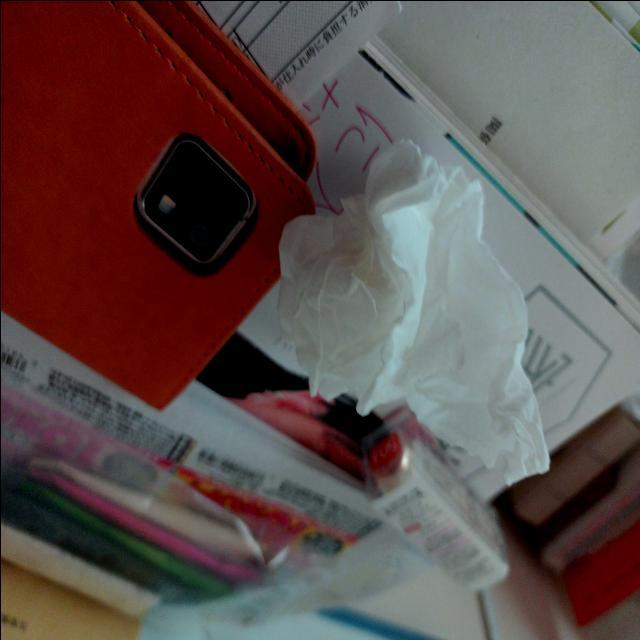Paper: (288, 109, 556, 492)
